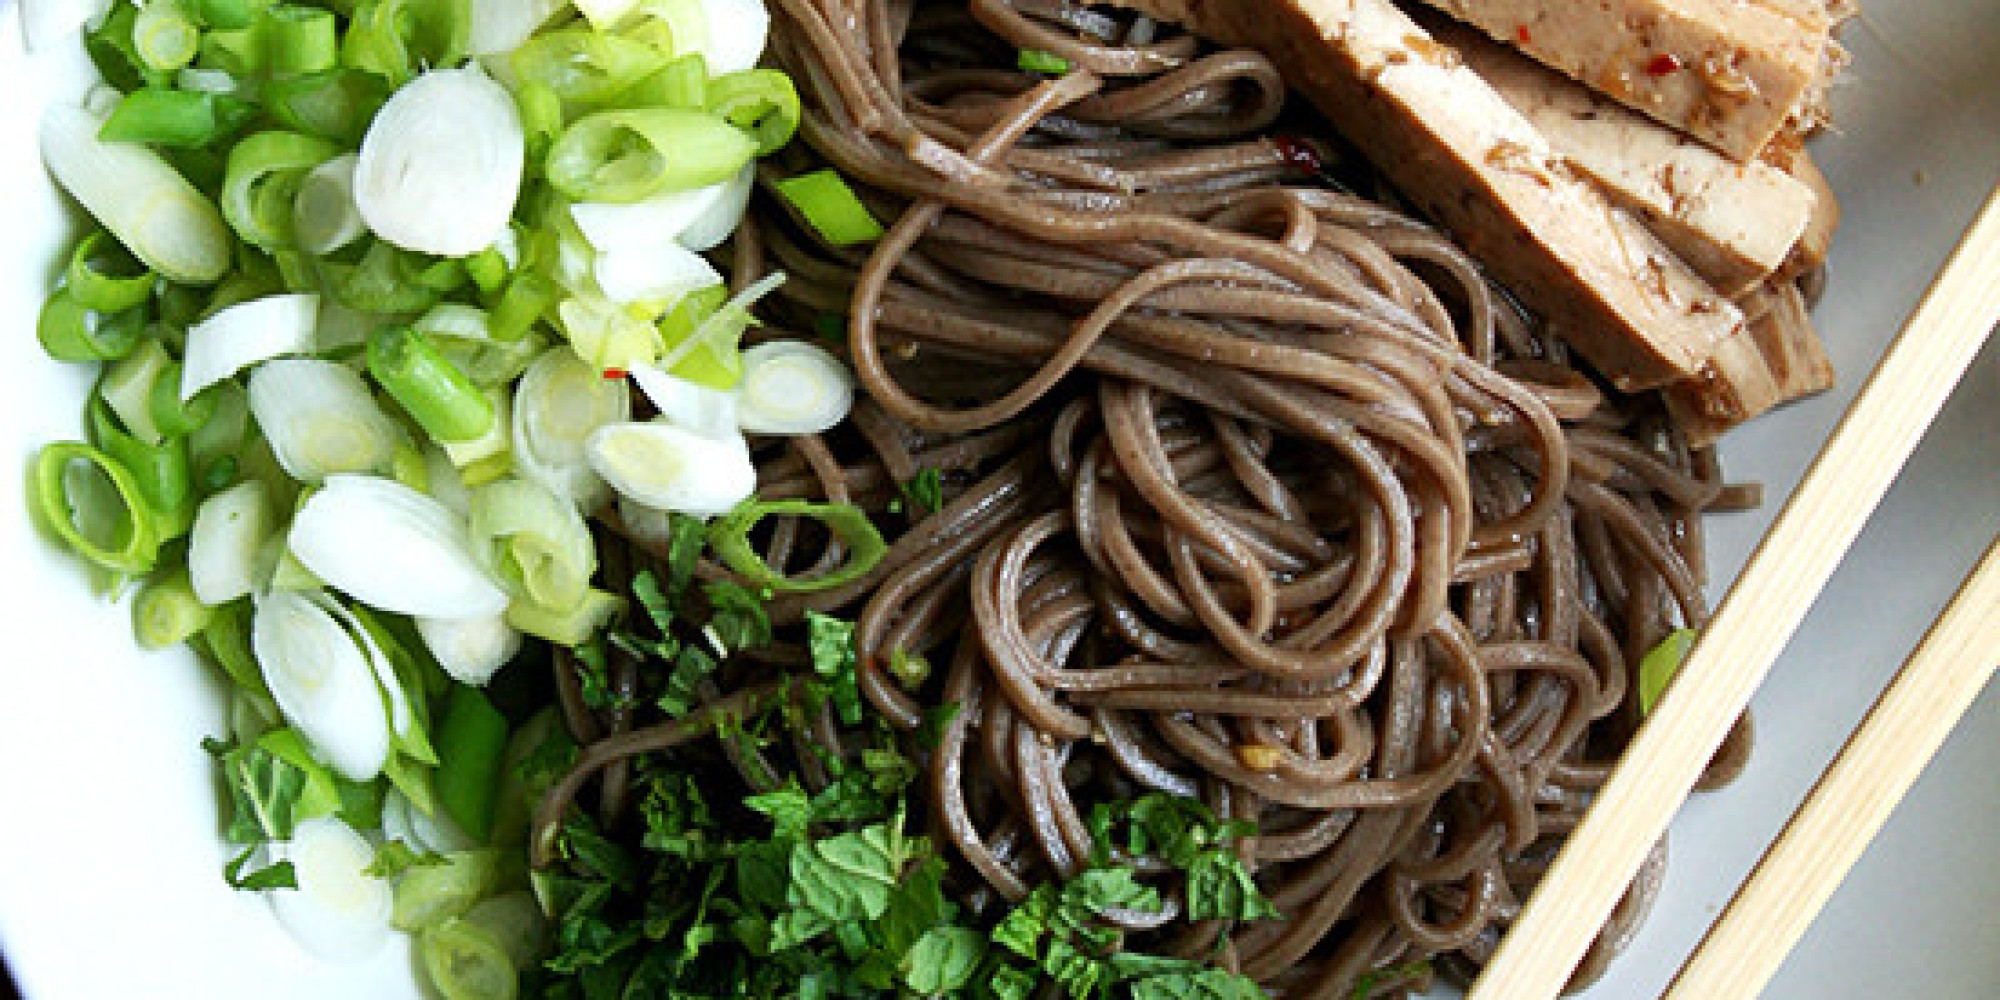Soba: (671, 10, 1737, 1000)
